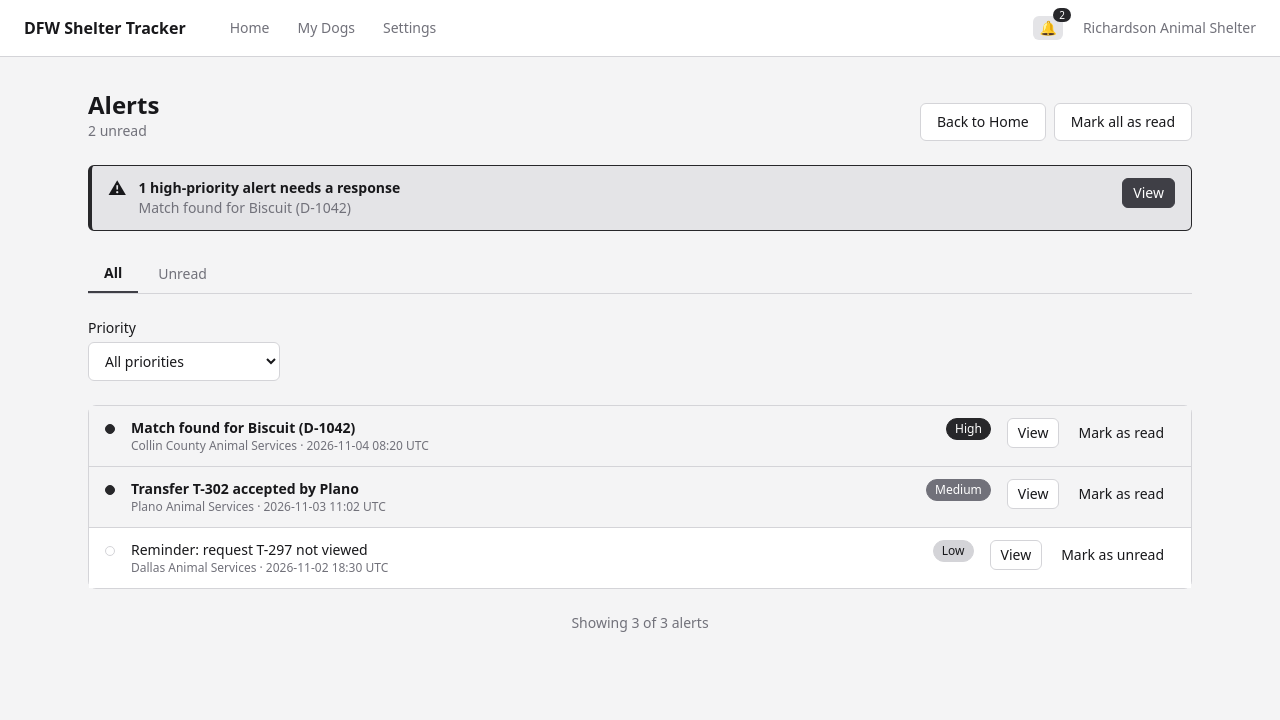
it: UC-14 View Alerts Inbox (screen) › a refused open (another shelter's alert) shows the message and no dialog
Click the button with aria-label "View Match found for Biscuit (D-1042)". click: (1033, 433)
box: [1007, 418, 1059, 448]
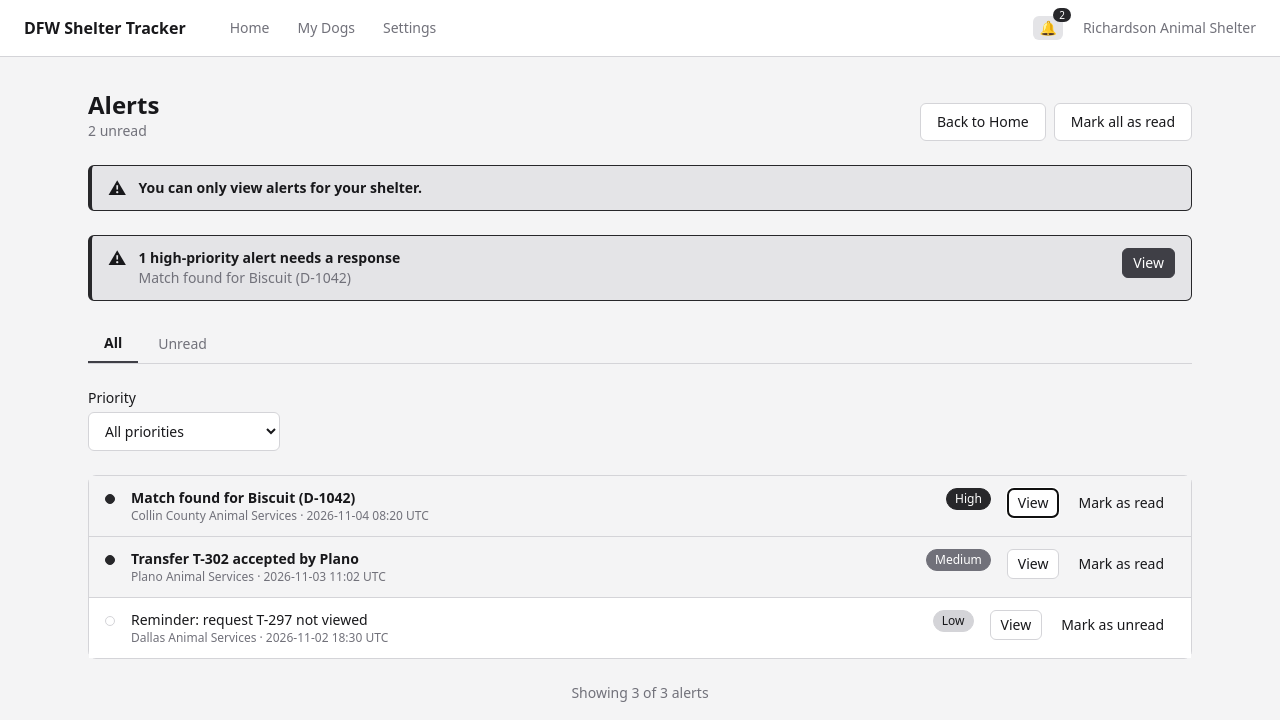
Result: the text "You can only view alerts for your shelter." is shown at [138, 178, 422, 198]
